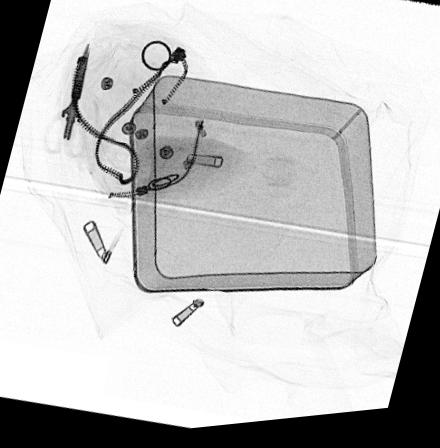Scissors: (42, 43, 90, 163)
